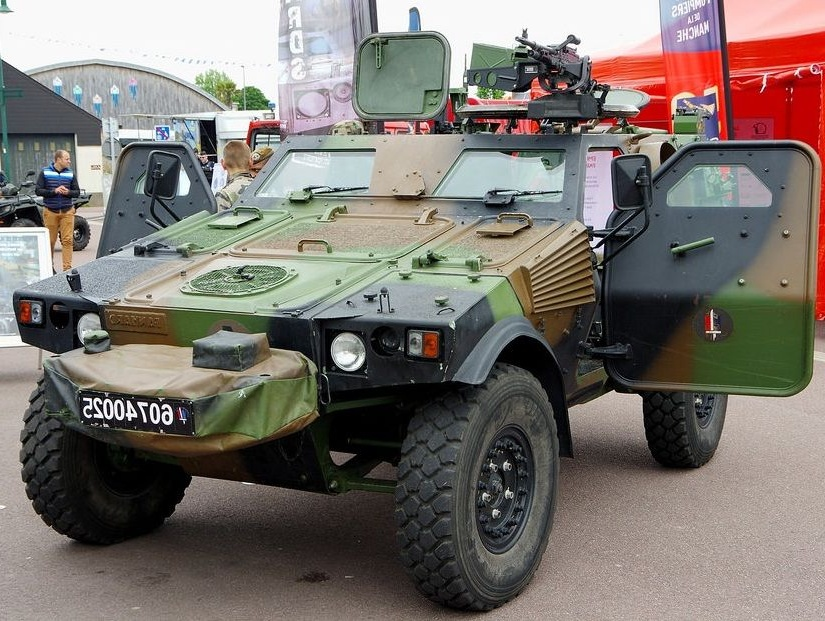license_plate: (78, 389, 180, 434)
